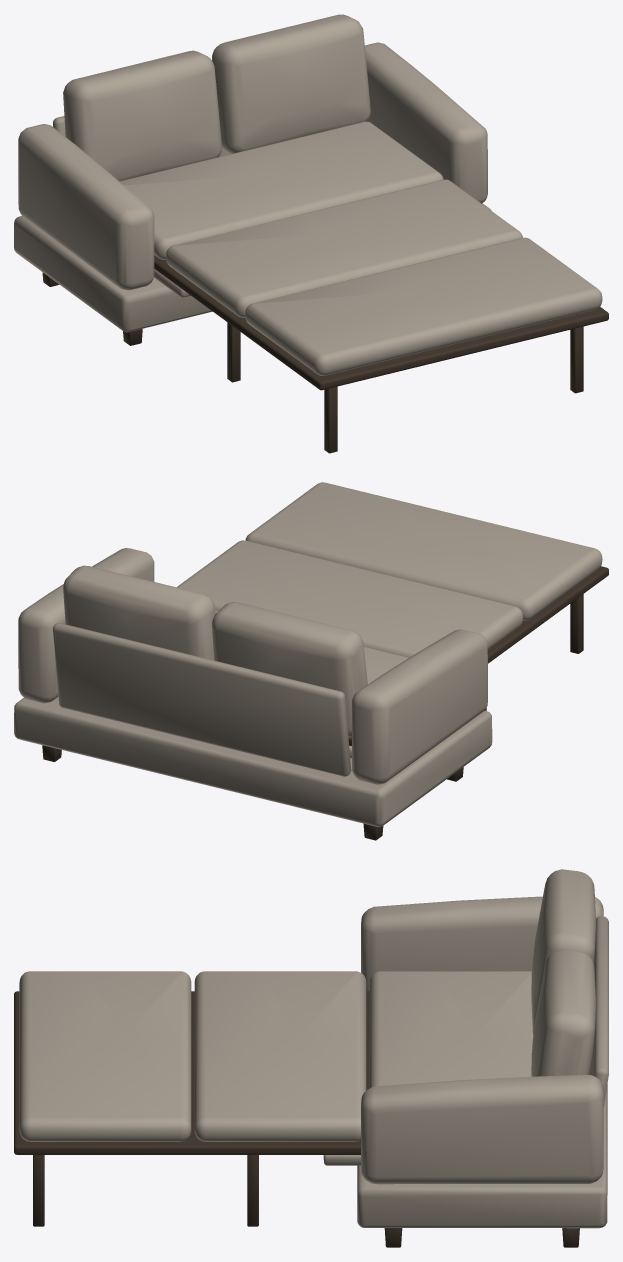
File: sofa-bed.glb
3 views of the same model, one above another, from view 1: azimuth 30°, elevation 25°; view 2: azimuth 150°, elevation 25°; view 3: azimuth 270°, elevation 25° (orthographic). The views are drawn at different scales.
Parts seen in each view (by area): view 1: EQ_Mobile_sofa-bed_Upholstery, EQ_Mobile_sofa-bed_OakStructure; view 2: EQ_Mobile_sofa-bed_Upholstery, EQ_Mobile_sofa-bed_OakStructure; view 3: EQ_Mobile_sofa-bed_Upholstery, EQ_Mobile_sofa-bed_OakStructure.
Boxes of the visible parts, box(x1,y1,x2,y2) form: EQ_Mobile_sofa-bed_Upholstery: box(14, 14, 602, 375); EQ_Mobile_sofa-bed_OakStructure: box(42, 255, 608, 453); EQ_Mobile_sofa-bed_Upholstery: box(14, 482, 602, 826); EQ_Mobile_sofa-bed_OakStructure: box(42, 566, 608, 840); EQ_Mobile_sofa-bed_Upholstery: box(19, 869, 608, 1228); EQ_Mobile_sofa-bed_OakStructure: box(14, 991, 579, 1247).
Bounding box in the file's own units: 1.82 × 0.916 × 2.28.
